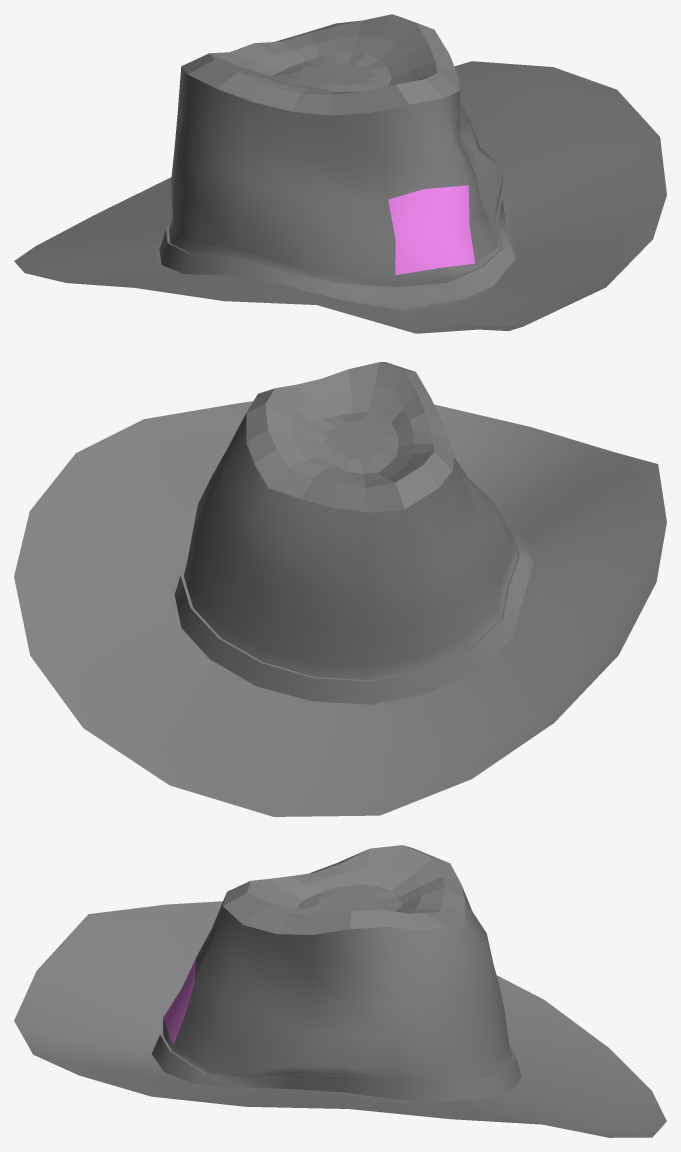
The model's file is hat.obj.
3 views of the same model, one above another, from view 1: azimuth 30°, elevation 25°; view 2: azimuth 150°, elevation 25°; view 3: azimuth 270°, elevation 25° (orthographic). The views are drawn at different scales.
Visible parts, largest first — view 1: hat group1; view 2: hat group1; view 3: hat group1.
Boxes of the visible parts, x1,y1,x2,y2 form: hat group1: (14,14,666,333); hat group1: (14,362,666,816); hat group1: (14,845,666,1137).
Size of the model in its own units: 45.65 by 21.59 by 50.7.
